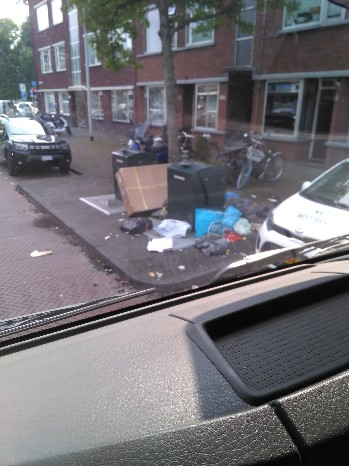Container: (168, 153, 229, 205), (114, 137, 150, 163)
Papier: (115, 166, 170, 210)
Rest: (246, 194, 270, 231), (133, 215, 166, 239), (192, 209, 220, 236), (161, 216, 189, 240)
Voertuig: (237, 169, 349, 251), (3, 111, 71, 174), (238, 136, 289, 177), (184, 133, 240, 161)
